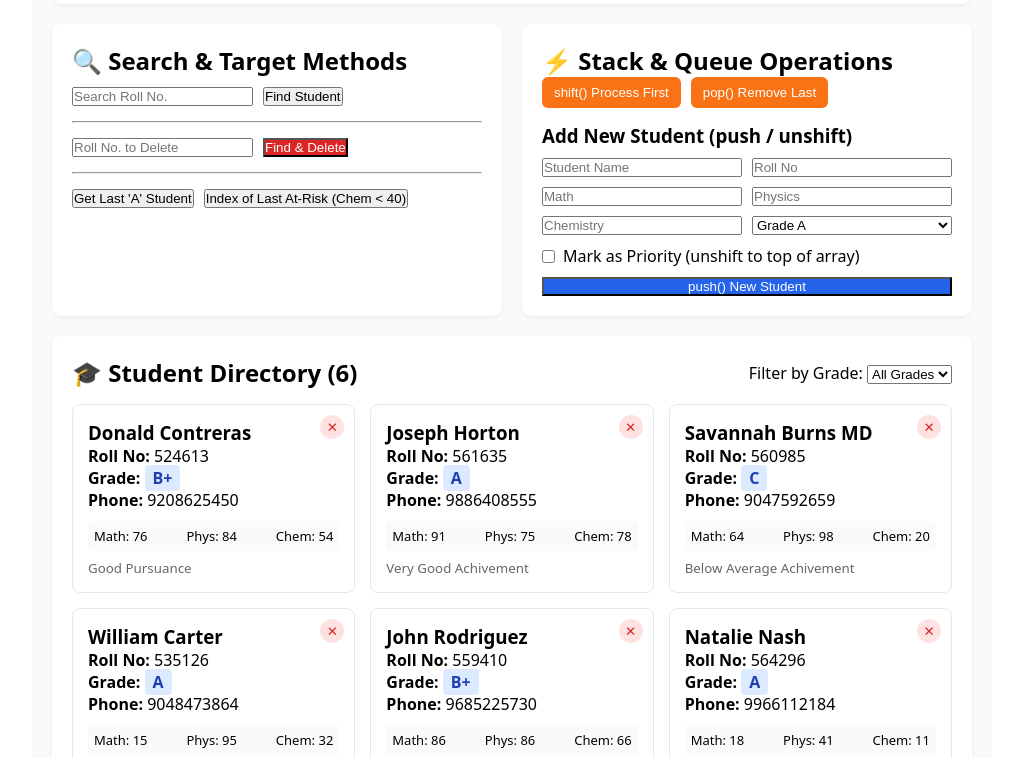
Test: StudentDashboard Component › Grade filtering (getFilteredStudents - filter) › should filter students by the selected grade
The image size is (1024, 758).
(page scrolled)
Expected: the heading "Donald Contreras" is shown, [88,420,251,445]
Expected: the heading "Joseph Horton" is shown, [386,420,520,445]
Note: --- Filter by Grade "A" ---
Select "Grade A" in the dropdown next to "Filter by Grade:". click: (910, 374)
box: [867,364,952,384]
(page scrolled)
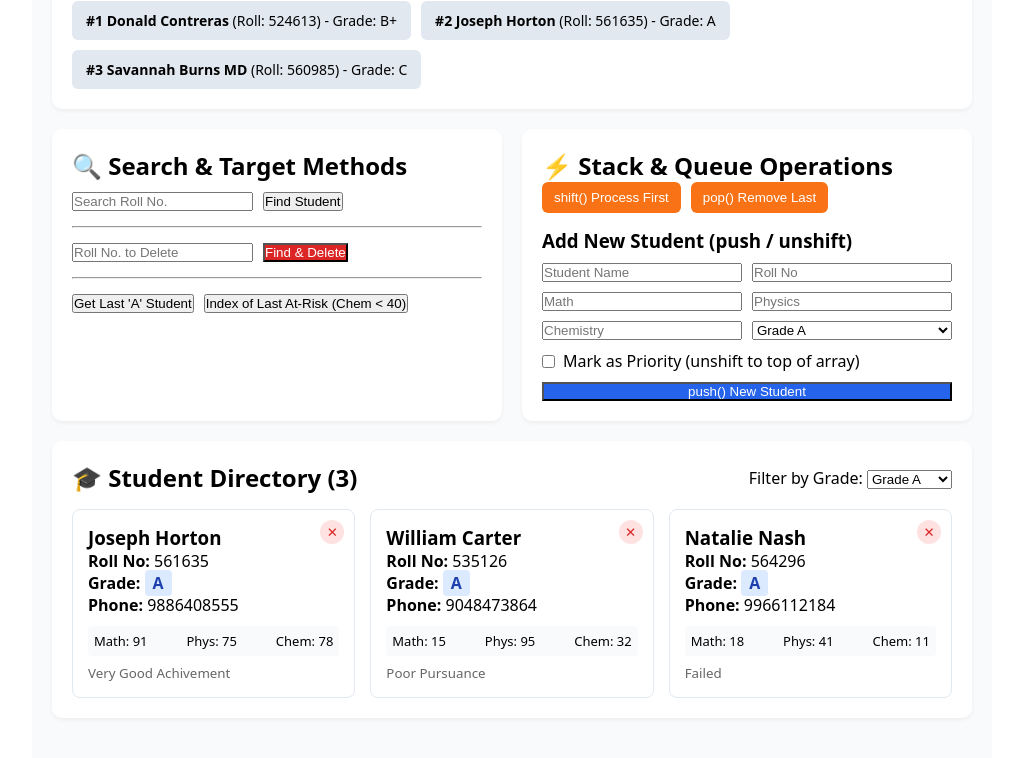
Expected: the heading "Joseph Horton" is shown, [88,525,222,550]
Note: --- Filter by Grade "B+" ---
Select "Grade B+" in the dropdown next to "Filter by Grade:". click: (910, 479)
box: [867,470,952,488]
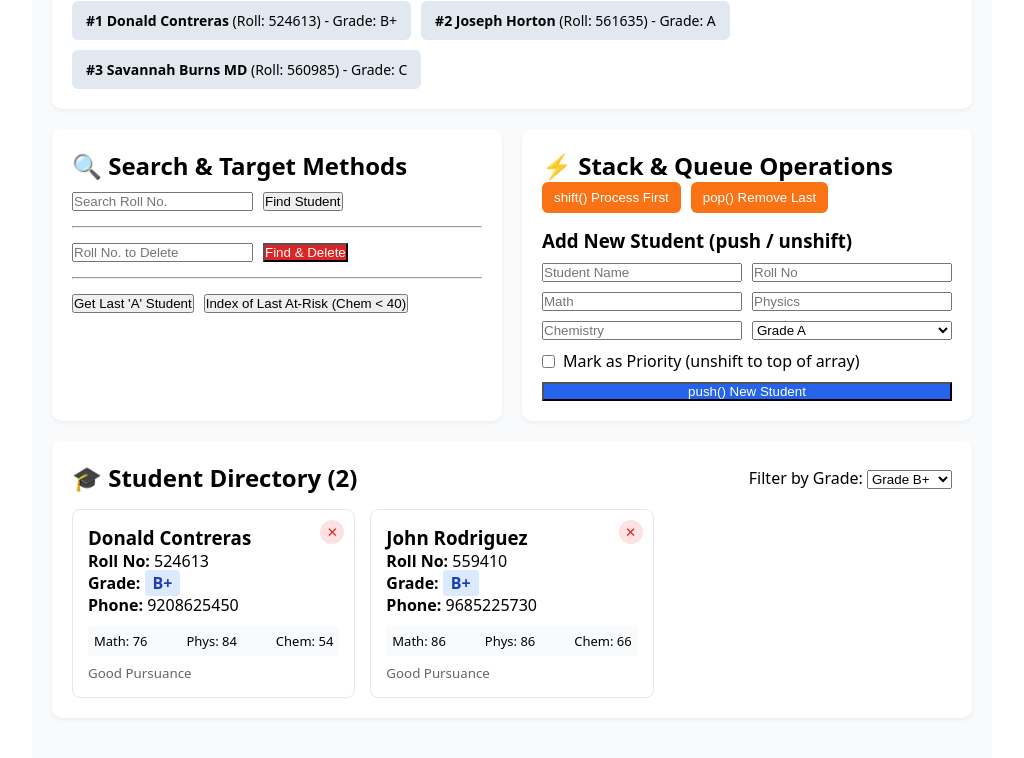
Expected: the heading "Donald Contreras" is shown, [88,525,251,550]
Expected: the heading "John Rodriguez" is shown, [386,525,528,550]
Note: --- Filter by Grade "C" ---
Select "Grade C" in the dropdown next to "Filter by Grade:". click: (910, 479)
box: [867,470,952,488]
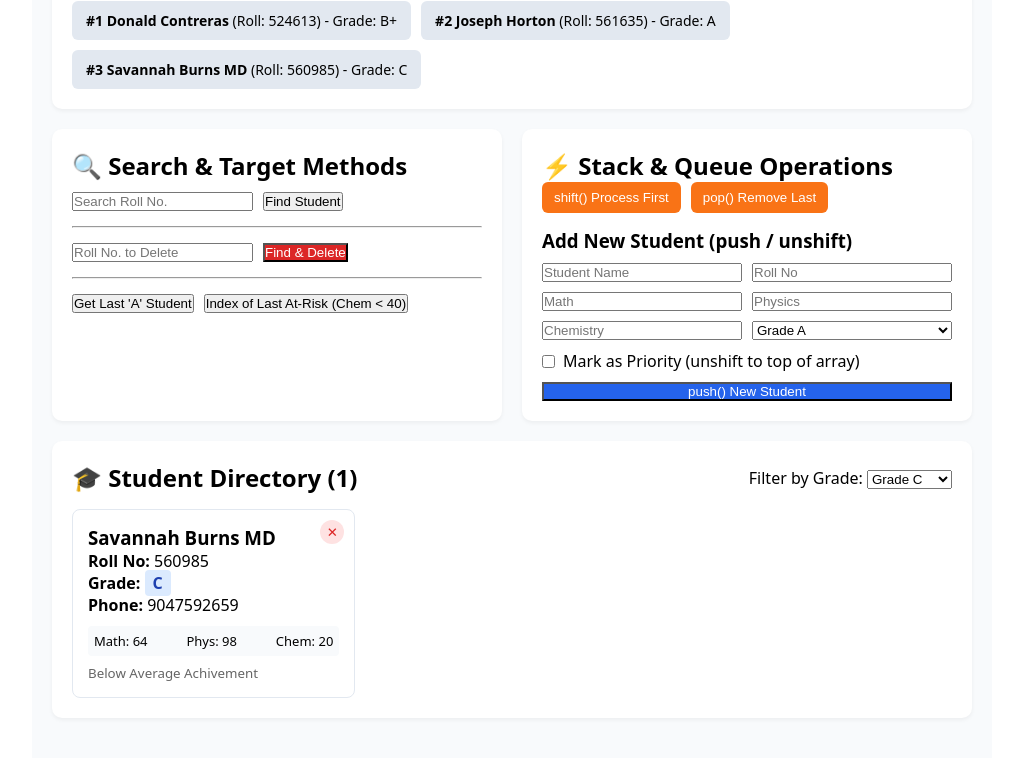
Expected: the heading "Savannah Burns MD" is shown, [88,525,276,550]
